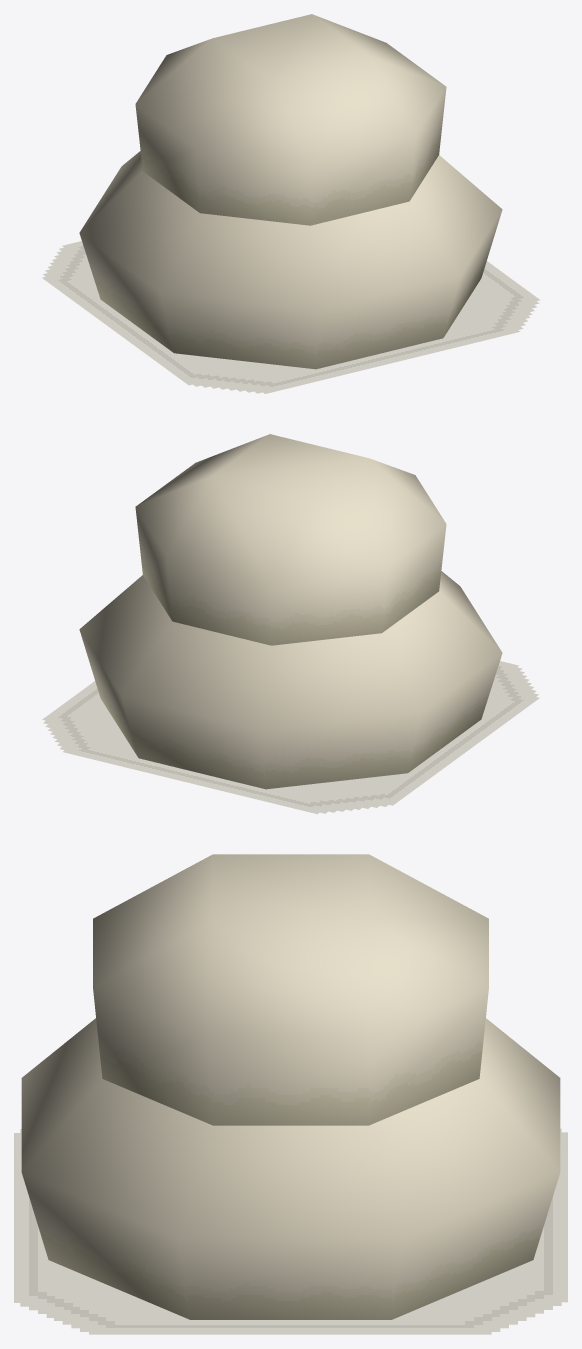
File: 036c_Kagami-mochi.glb
3 renders of one model, top to bottom at view 1: azimuth 30°, elevation 25°; view 2: azimuth 150°, elevation 25°; view 3: azimuth 270°, elevation 25°, orthographic. The views are drawn at different scales.
Parts seen in each view (by area): view 1: part_0; view 2: part_0; view 3: part_0.
Part boxes in pixels (<box>): part_0: <box>42,14,540,393</box>; part_0: <box>42,434,539,814</box>; part_0: <box>14,854,567,1334</box>.
Size of the model in its own units: 0.171 by 0.1125 by 0.171.
1 material, 1 textured.
